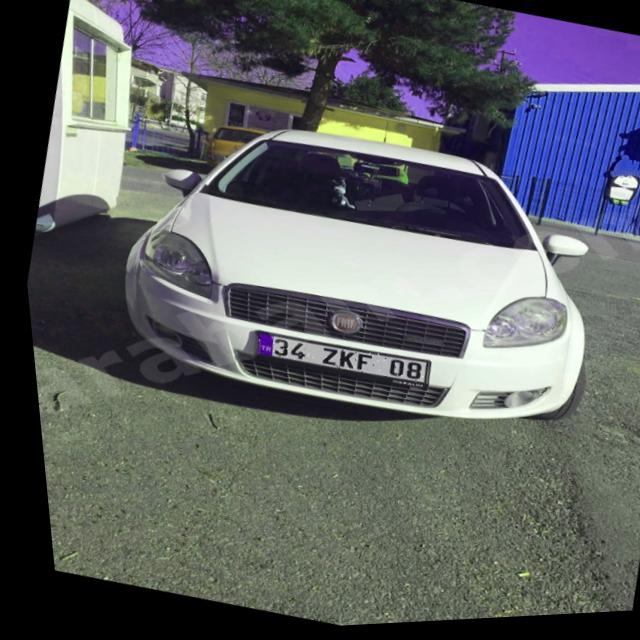license_plate: (246, 326, 421, 396)
